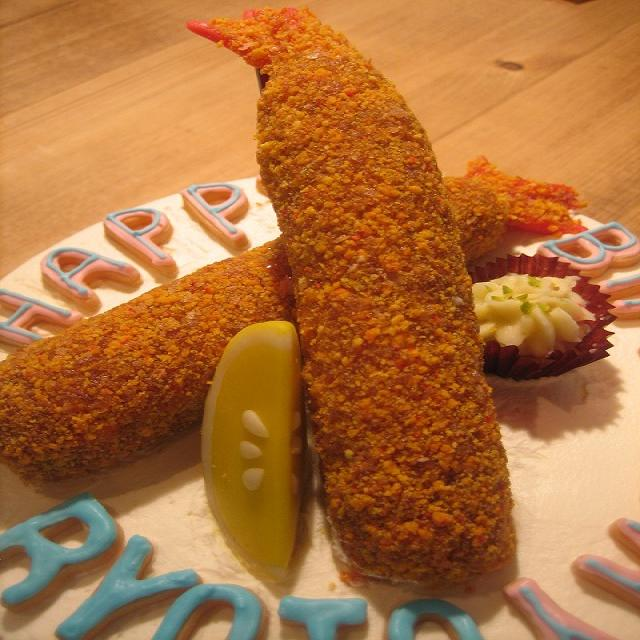炸货点心: (0, 12, 589, 602)
熟制海鲜: (0, 12, 589, 602)
